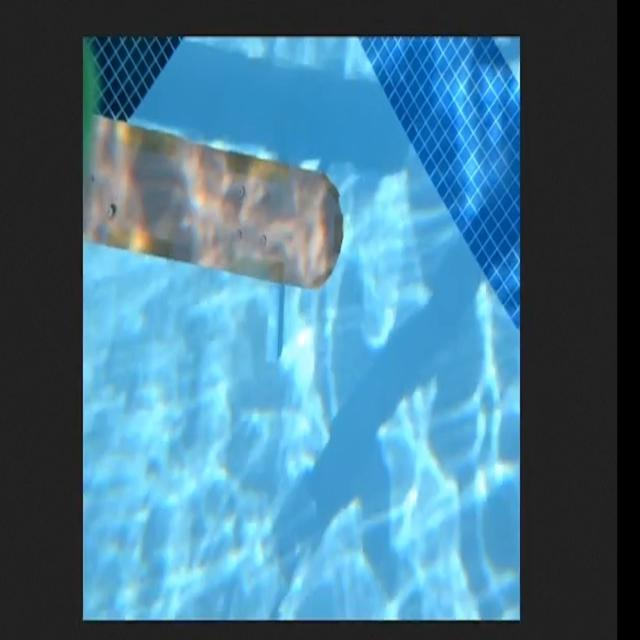Path: (83, 103, 347, 295)
